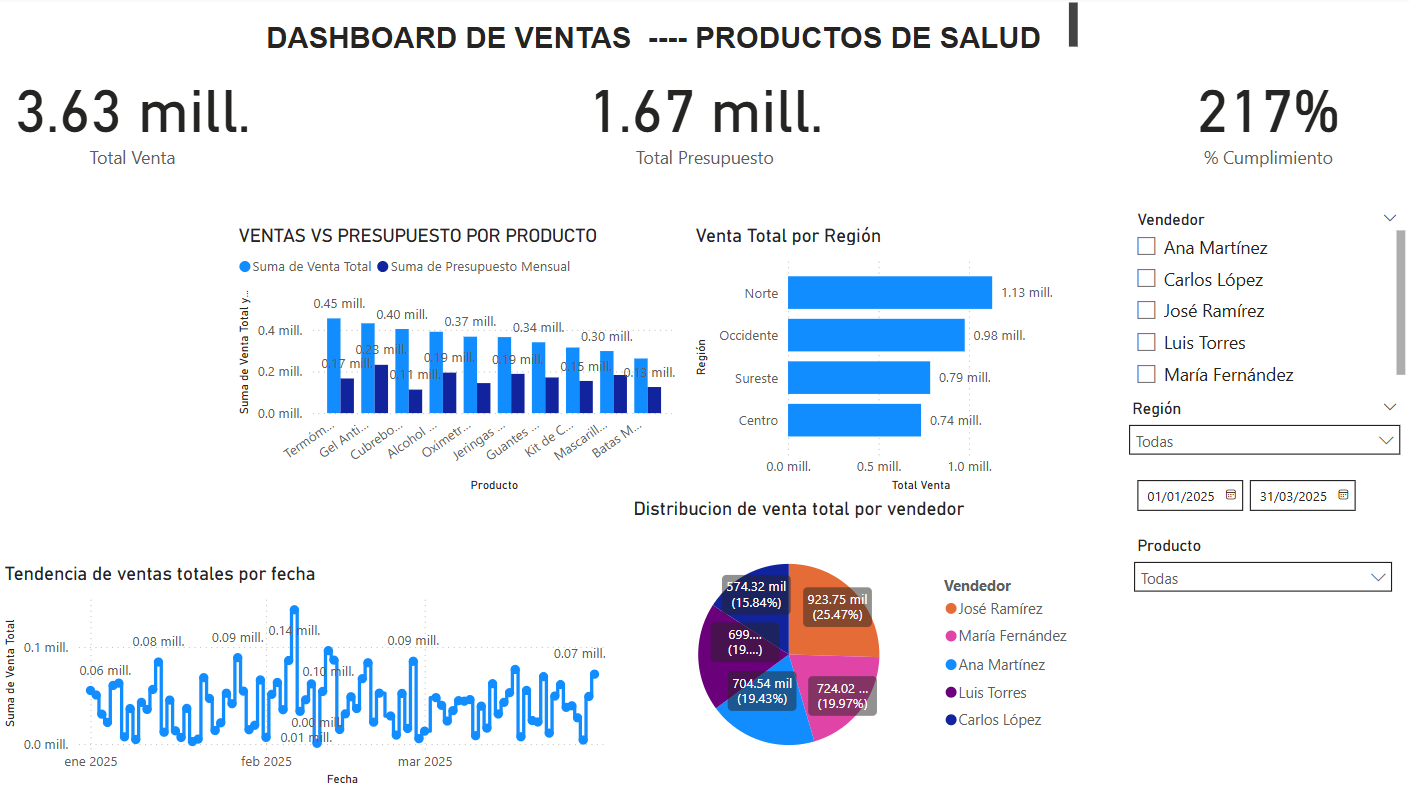

Layout of this report page (visuals, bound fields, positions):
{"tool":"powerbi","page":{"name":"Página 1","canvas":[1280,720],"ordinal":0},"visuals":[{"type":"card","title":"Total presupuesto","fields":{"Values":["Sheet1.Total Venta"]},"box":[0,54.4,242.1,105.2],"z":0},{"type":"card","fields":{"Values":["Sheet1.Total Presupuesto"]},"box":[506.9,54.4,266.6,105.2],"z":1000},{"type":"card","fields":{"Values":["Sheet1.% Cumplimiento"]},"box":[1022,54.4,258.4,105.2],"z":2000},{"type":"clusteredColumnChart","title":"VENTAS VS PRESUPUESTO POR PRODUCTO ","fields":{"Category":["Sheet1.Producto"],"Y":["Sheet1.Venta Total","Sheet1.Presupuesto Mensual"]},"box":[212.2,205.8,406.2,247.6],"z":3000},{"type":"barChart","title":"Venta Total por Región","fields":{"Category":["Sheet1.Región"],"Y":["Sheet1.Total Venta"]},"box":[626.6,205.8,356.4,247.6],"z":4000},{"type":"lineChart","title":"Tendencia de ventas totales por fecha","fields":{"Category":["Sheet1.Fecha"],"Y":["Sheet1.Venta Total"]},"box":[0,512.3,570.4,207.7],"z":5000},{"type":"pieChart","title":"Distribucion de venta total por vendedor","fields":{"Category":["Sheet1.Vendedor"],"Y":["Sheet1.Venta Total"]},"box":[570.4,453.4,412.6,266.6],"z":6000},{"type":"slicer","fields":{"Values":["Sheet1.Fecha"]},"box":[1019.2,428,253.9,56.2],"z":7000},{"type":"slicer","fields":{"Values":["Sheet1.Región"]},"box":[1014.7,360,265.7,68],"z":8000},{"type":"slicer","fields":{"Values":["Sheet1.Producto"]},"box":[1019.2,484.2,253.9,59.8],"z":9000},{"type":"slicer","fields":{"Values":["Sheet1.Vendedor"]},"box":[1019.2,188.6,261.2,171.4],"z":10000},{"type":"textbox","box":[212.2,0,770.8,54.4],"z":11000}]}

Visuals, with their boxes in screenshot pixels (x1, y1, x2, y2), scaled from the page's 1280x720 canvas onto the 1409x791 screenshot:
"Total presupuesto" card: [x1=0, y1=60, x2=266, y2=175]
card - Sheet1.Total Presupuesto: [x1=558, y1=60, x2=851, y2=175]
card - Sheet1.% Cumplimiento: [x1=1125, y1=60, x2=1408, y2=175]
"VENTAS VS PRESUPUESTO POR PRODUCTO " clusteredColumnChart: [x1=234, y1=226, x2=681, y2=498]
"Venta Total por Región" barChart: [x1=690, y1=226, x2=1082, y2=498]
"Tendencia de ventas totales por fecha" lineChart: [x1=0, y1=563, x2=628, y2=790]
"Distribucion de venta total por vendedor" pieChart: [x1=628, y1=498, x2=1082, y2=790]
slicer - Sheet1.Fecha: [x1=1122, y1=470, x2=1401, y2=532]
slicer - Sheet1.Región: [x1=1117, y1=396, x2=1408, y2=470]
slicer - Sheet1.Producto: [x1=1122, y1=532, x2=1401, y2=598]
slicer - Sheet1.Vendedor: [x1=1122, y1=207, x2=1408, y2=396]
textbox: [x1=234, y1=0, x2=1082, y2=60]
